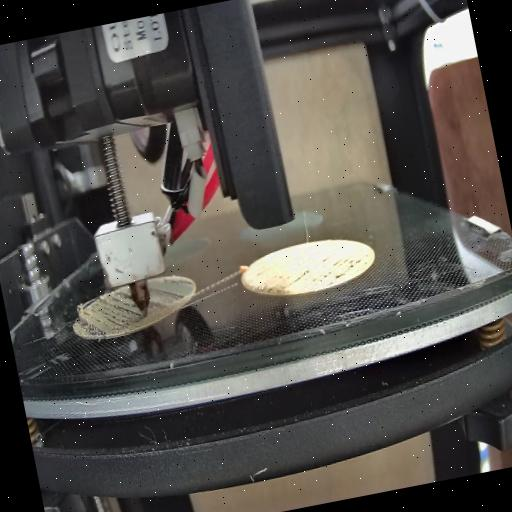under_extrusion: (71, 286, 142, 342), (290, 246, 372, 288), (244, 268, 290, 302), (148, 277, 188, 314)
